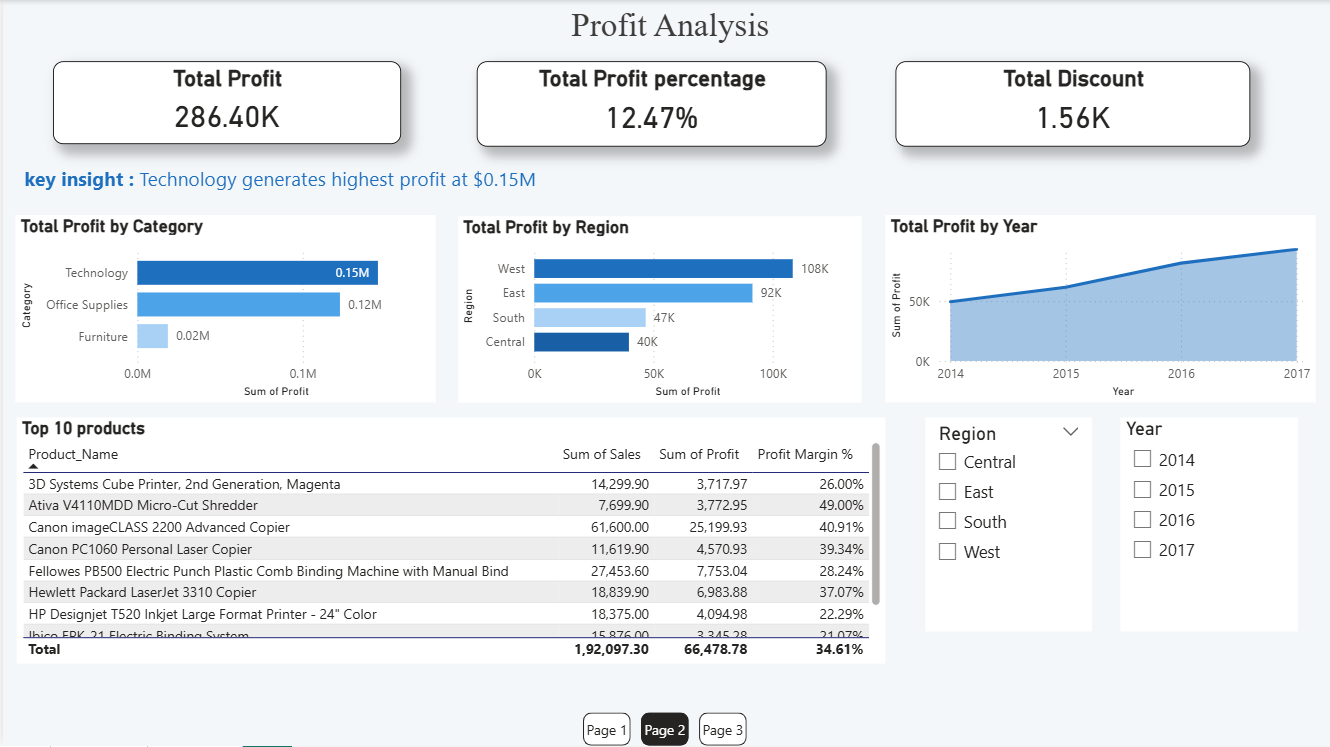

What the dashboard file says about the page in this screenshot:
{"tool":"powerbi","page":{"name":"Page 2","canvas":[1280,720],"ordinal":1},"visuals":[{"type":"card","title":"Total Profit","fields":{"Values":["Sum(Untitled spreadsheet - Sample -.Profit)"]},"box":[48,59.1,336,80],"z":0},{"type":"card","title":"Total Discount","fields":{"Values":["Sum(Untitled spreadsheet - Sample -.Discount)"]},"box":[861.4,59.1,342.6,82],"z":1000},{"type":"clusteredBarChart","title":"Total Profit by Category","fields":{"Category":["Untitled spreadsheet - Sample -.Category"],"Y":["Sum(Untitled spreadsheet - Sample -.Profit)"]},"box":[12.1,207.5,405.4,181],"z":2000},{"type":"barChart","title":"Total Profit by Region","fields":{"Category":["Untitled spreadsheet - Sample -.Region"],"Y":["Sum(Untitled spreadsheet - Sample -.Profit)"]},"box":[439.7,208.7,389.7,179.8],"z":3000},{"type":"areaChart","title":"Total Profit by Year","fields":{"Category":["Untitled spreadsheet - Sample -.Order_Date.Variation.Date Hierarchy.Year"],"Y":["Sum(Untitled spreadsheet - Sample -.Profit)"]},"box":[851.7,207.5,415,181],"z":4000},{"type":"slicer","fields":{"Values":["Untitled spreadsheet - Sample -.Region"]},"box":[890.4,403,160.5,206.3],"z":5000},{"type":"tableEx","title":"Top 10 products","fields":{"Values":["Untitled spreadsheet - Sample -.Product_Name","Sum(Untitled spreadsheet - Sample -.Sales)","Sum(Untitled spreadsheet - Sample -.Profit)","Untitled spreadsheet - Sample -.Profit Margin %"]},"box":[13.3,403,838.5,237.7],"z":6000},{"type":"textbox","box":[0,0,1280,58.8],"z":7000},{"type":"card","title":"Total Profit percentage","fields":{"Values":["Untitled spreadsheet - Sample -.Profit Margin %"]},"box":[456.6,59.1,337.8,82],"z":8000},{"type":"pageNavigator","box":[560,688,160,32],"z":9000},{"type":"slicer","title":"Year","fields":{"Values":["Untitled spreadsheet - Sample -.Order_Date.Variation.Date Hierarchy.Year"]},"box":[1078.6,403,171.3,206.3],"z":10000},{"type":"textbox","box":[15.7,154.4,528.4,37.4],"z":10001}]}

Visuals, with their boxes in screenshot pixels (x1, y1, x2, y2), scaled from the page's 1280x720 canvas onto the 1330x747 screenshot:
"Total Profit" card: left=50, top=61, right=399, bottom=144
"Total Discount" card: left=895, top=61, right=1251, bottom=146
"Total Profit by Category" clusteredBarChart: left=13, top=215, right=434, bottom=403
"Total Profit by Region" barChart: left=457, top=217, right=862, bottom=403
"Total Profit by Year" areaChart: left=885, top=215, right=1316, bottom=403
slicer - Untitled spreadsheet - Sample -.Region: left=925, top=418, right=1092, bottom=632
"Top 10 products" tableEx: left=14, top=418, right=885, bottom=665
textbox: left=0, top=0, right=1329, bottom=61
"Total Profit percentage" card: left=474, top=61, right=825, bottom=146
pageNavigator: left=582, top=714, right=748, bottom=746
"Year" slicer: left=1121, top=418, right=1299, bottom=632
textbox: left=16, top=160, right=565, bottom=199
